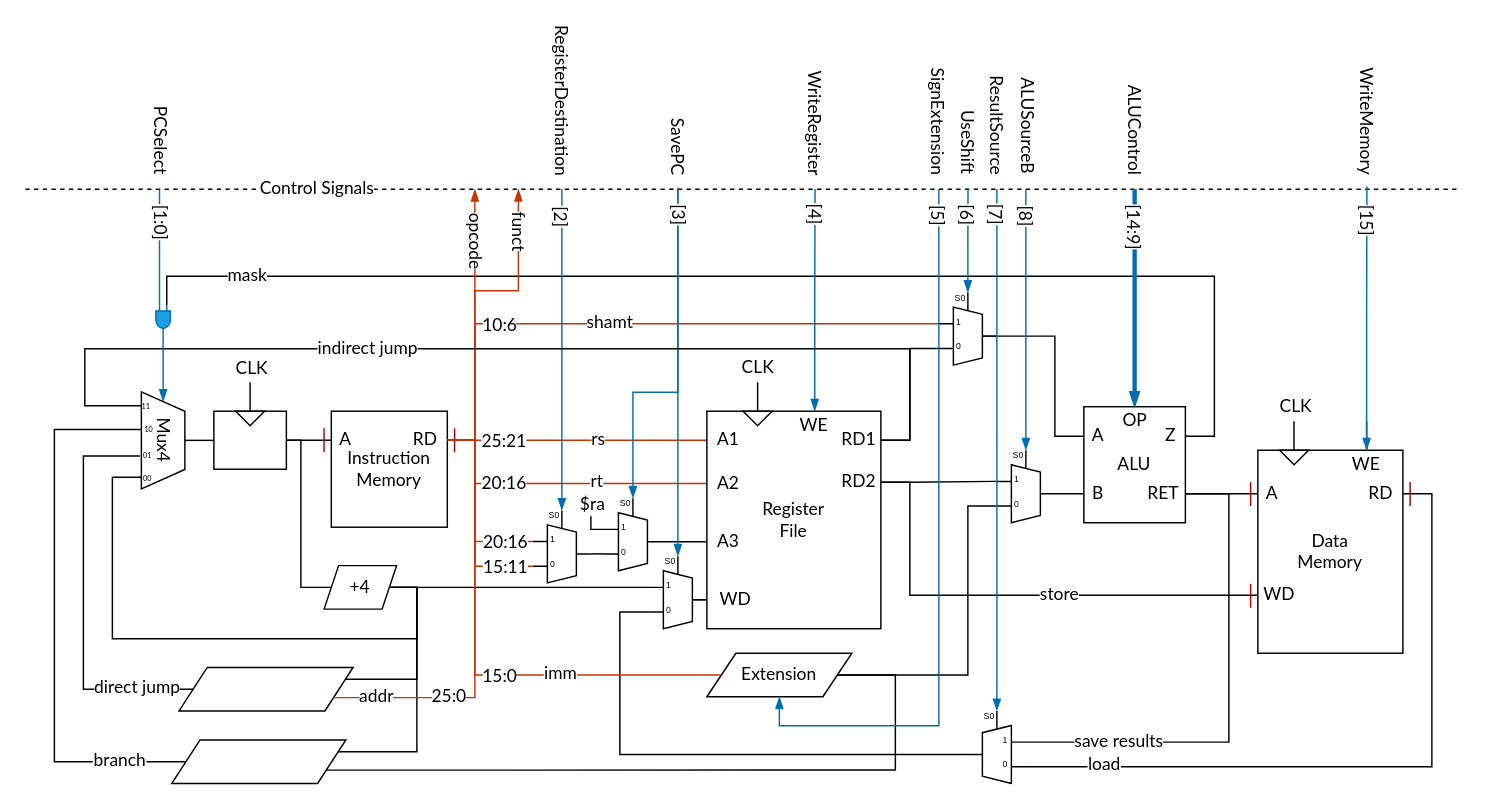
This 1488x809 diagram has some shape labels left out. Each missing label, with the centre of its shape:
"BTA Extension" goes at point (258, 760).
"JTA Extension" goes at point (265, 688).
"PC" goes at point (249, 439).
